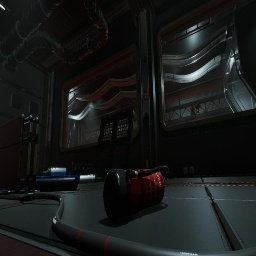0: (80, 174, 102, 184), (42, 168, 66, 176)
FireAlarm ,: (143, 88, 148, 101)
FireExtinguisher ]: (103, 165, 170, 222)
NitrogenTank ,: (36, 176, 48, 177)
